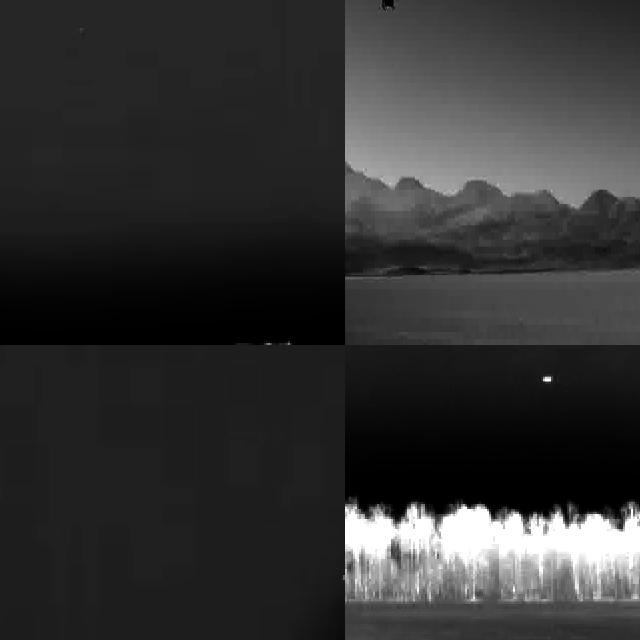0: (67, 15, 91, 43), (331, 569, 345, 592)
1: (529, 369, 561, 391)
drone: (364, 0, 411, 21)
